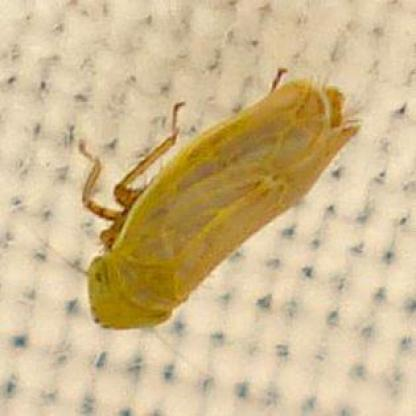green-leafhopper: (75, 72, 355, 340)
